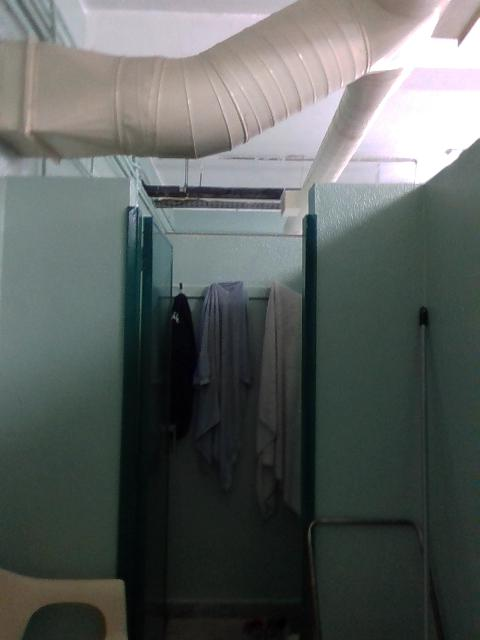open_door: (127, 176, 317, 639)
